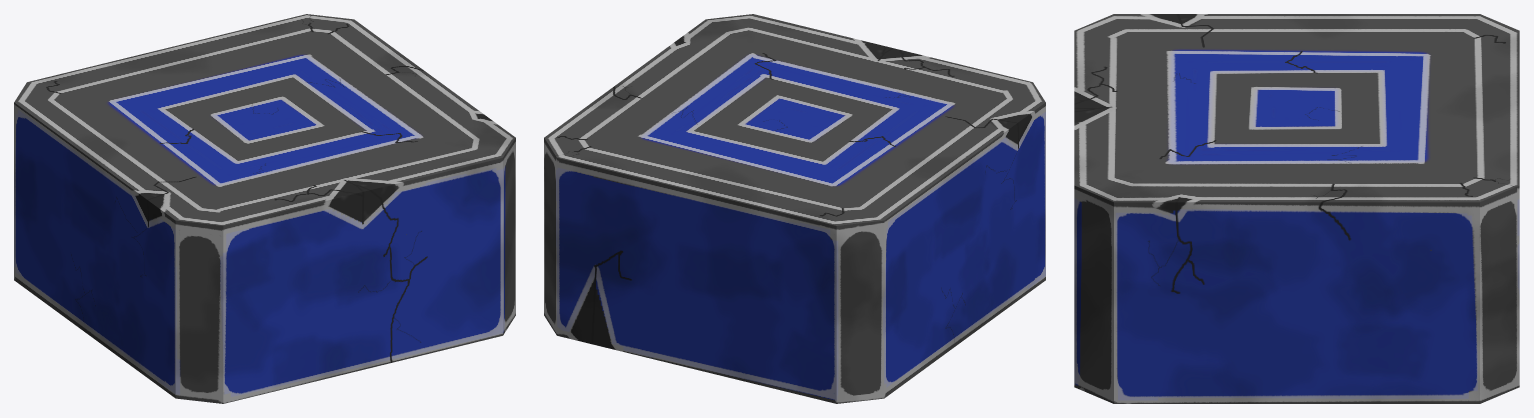
The model's file is piece.glb.
3 renders of one model, left to right at view 1: azimuth 30°, elevation 25°; view 2: azimuth 150°, elevation 25°; view 3: azimuth 270°, elevation 25°, orthographic. The views are drawn at different scales.
Parts seen in each view (by area): view 1: meeple_square; view 2: meeple_square; view 3: meeple_square.
Boxes of the visible parts, x1,y1,x2,y2 form: meeple_square: (14,14,515,403); meeple_square: (544,14,1045,403); meeple_square: (1074,14,1519,403).
Size of the model in its own units: 0.5 by 0.25 by 0.5.
1 material, 1 textured.
